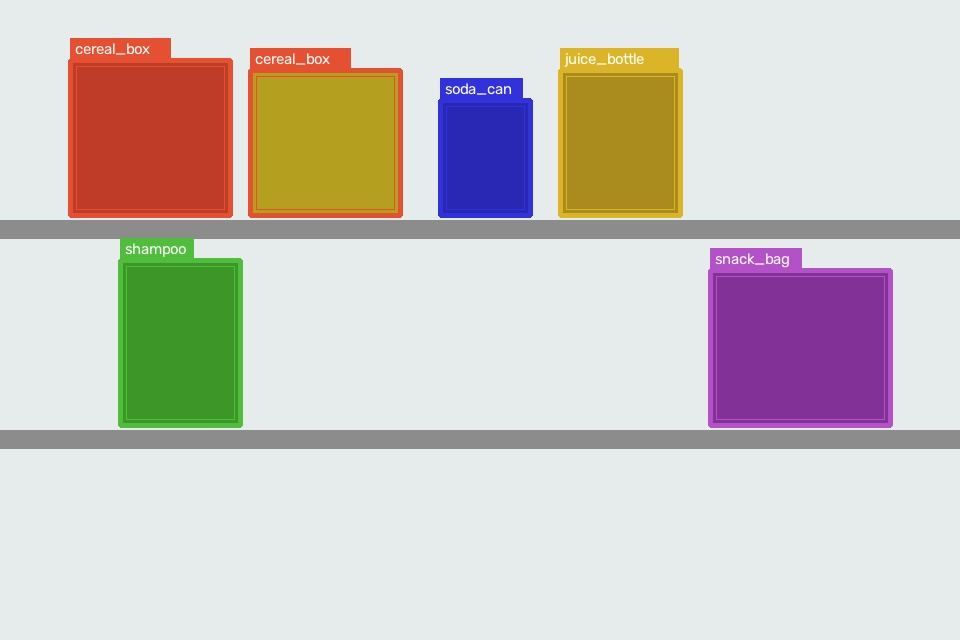cereal_box: (70, 60, 230, 215), (250, 70, 400, 215)
juice_bottle: (560, 70, 680, 215)
shampoo: (120, 260, 240, 425)
snack_bag: (710, 270, 890, 425)
soda_can: (440, 100, 530, 215)
